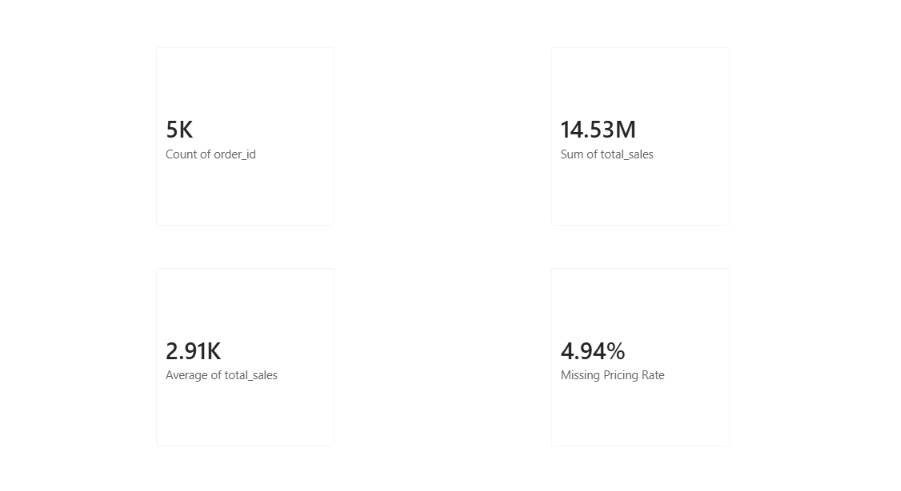

The page's visual inventory and layout, read from the dashboard file:
{"tool":"powerbi","page":{"name":"Overview","canvas":[1280,720],"ordinal":0},"visuals":[{"type":"cardVisual","fields":{"Data":["CountNonNull(public final_sales.order_id)"]},"box":[223.7,79.6,279.9,279.9],"z":0},{"type":"cardVisual","fields":{"Data":["Avg(public final_sales.total_sales)"]},"box":[223.7,382.8,279.9,279.9],"z":1},{"type":"cardVisual","fields":{"Data":["Sum(public final_sales.total_sales)"]},"box":[765.7,79.6,279.9,279.9],"z":2},{"type":"cardVisual","fields":{"Data":["public final_sales.Missing Pricing Rate"]},"box":[765.7,382.8,279.9,279.9],"z":3}]}

Visuals, with their boxes on the page's 1280x720 design canvas (x1, y1, x2, y2). These are canvas units, not pixel positions in the 901x491 screenshot, which may show the page scaled, cropped or inside an application window:
cardVisual - CountNonNull(public final_sales.order_id): crop(224, 80, 504, 360)
cardVisual - Avg(public final_sales.total_sales): crop(224, 383, 504, 663)
cardVisual - Sum(public final_sales.total_sales): crop(766, 80, 1046, 360)
cardVisual - public final_sales.Missing Pricing Rate: crop(766, 383, 1046, 663)
